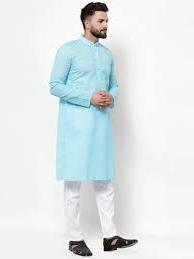Human: (53, 0, 133, 251)
